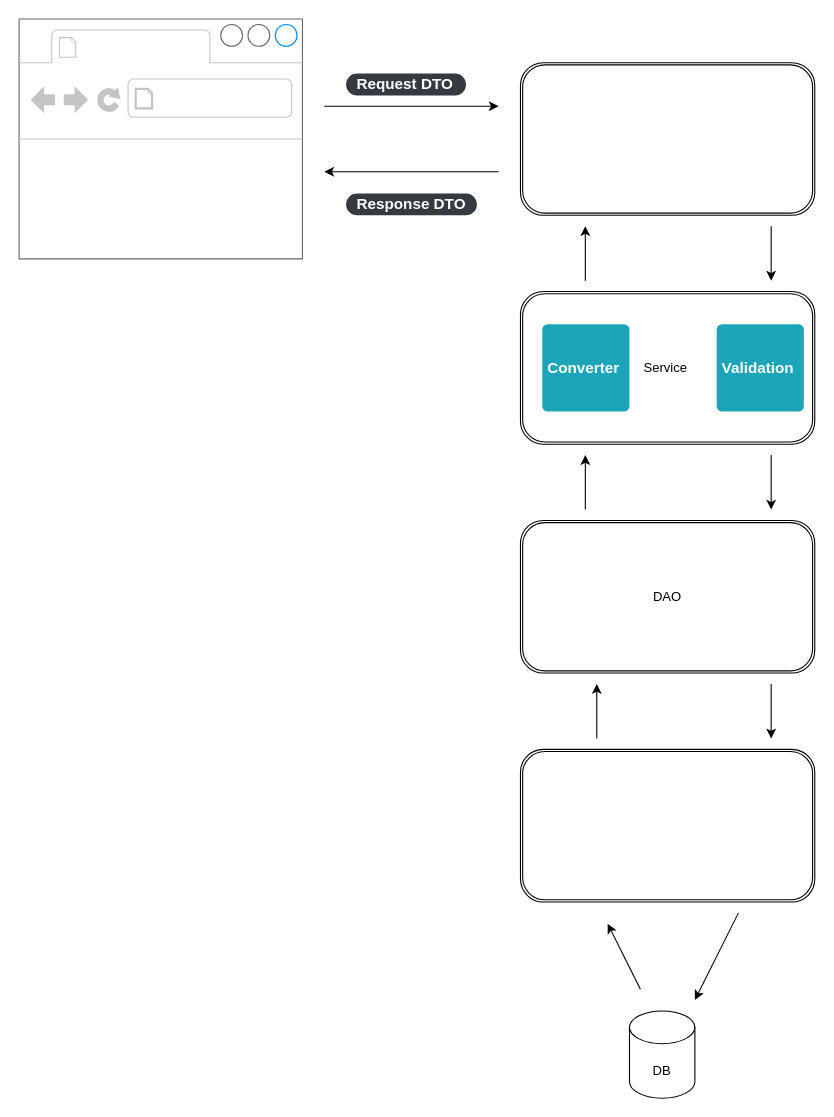
The diagram is 834 pixels wide and 1117 high, and some of its shapes have lost their labels. Here are the shapes that lost their labels. From the top down, the centre of each, then its label:
At (143,45): "Page 1".
At (667,138): "Controller".
At (667,825): "Repository".
